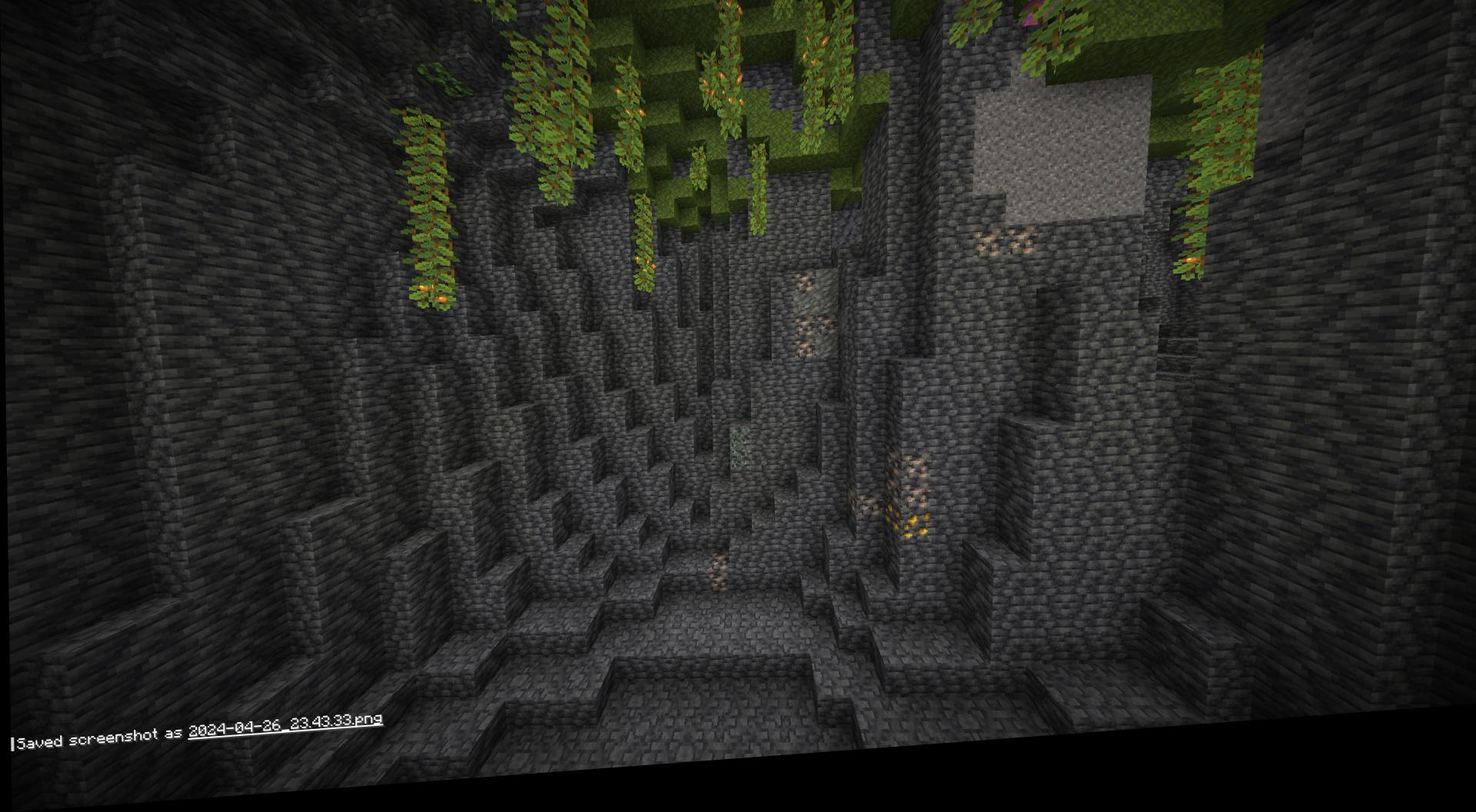gold ore: (886, 523, 925, 558)
iron ore: (792, 325, 847, 368), (701, 565, 739, 607), (968, 240, 1005, 280), (888, 460, 929, 491), (848, 495, 880, 533), (895, 490, 928, 524), (1005, 238, 1036, 272), (790, 284, 816, 303)
